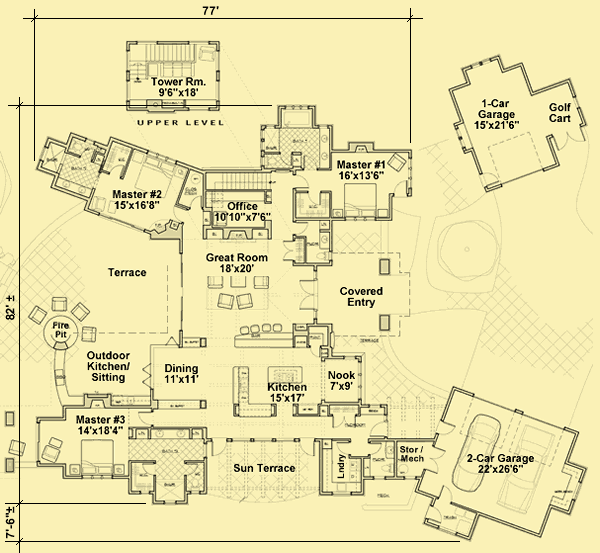bathroom is with shower space, small and large sink: (36, 128, 105, 203)
kitchen has a kitchen bar with other cooking facility: (226, 337, 325, 424)
laundry room has washer and dryer: (316, 437, 364, 498)
livingroom with multiple small couches for sitting: (182, 239, 293, 336)
master bedroom has shower space with dual sink and large sink: (128, 426, 208, 504)
master bedroom has shower space with tub, dual sink and large sink: (257, 103, 334, 174)
open area has stairs: (202, 169, 274, 239)
small bathroom with large sink and small sink: (292, 217, 331, 267), (362, 438, 400, 481)
there is a garage with two car parking: (414, 384, 588, 542)
this is a master bedroom with a double bed: (84, 135, 186, 237)
this is a master bedroom with a double bed and bedside stands and couch: (329, 145, 414, 221)
this is a master bedroom with a double bed and couch: (34, 403, 131, 481)
